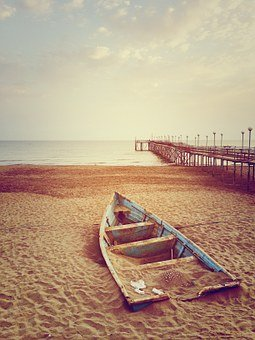sea: (2, 137, 253, 340), (2, 142, 183, 165)
sky: (2, 3, 253, 135)
